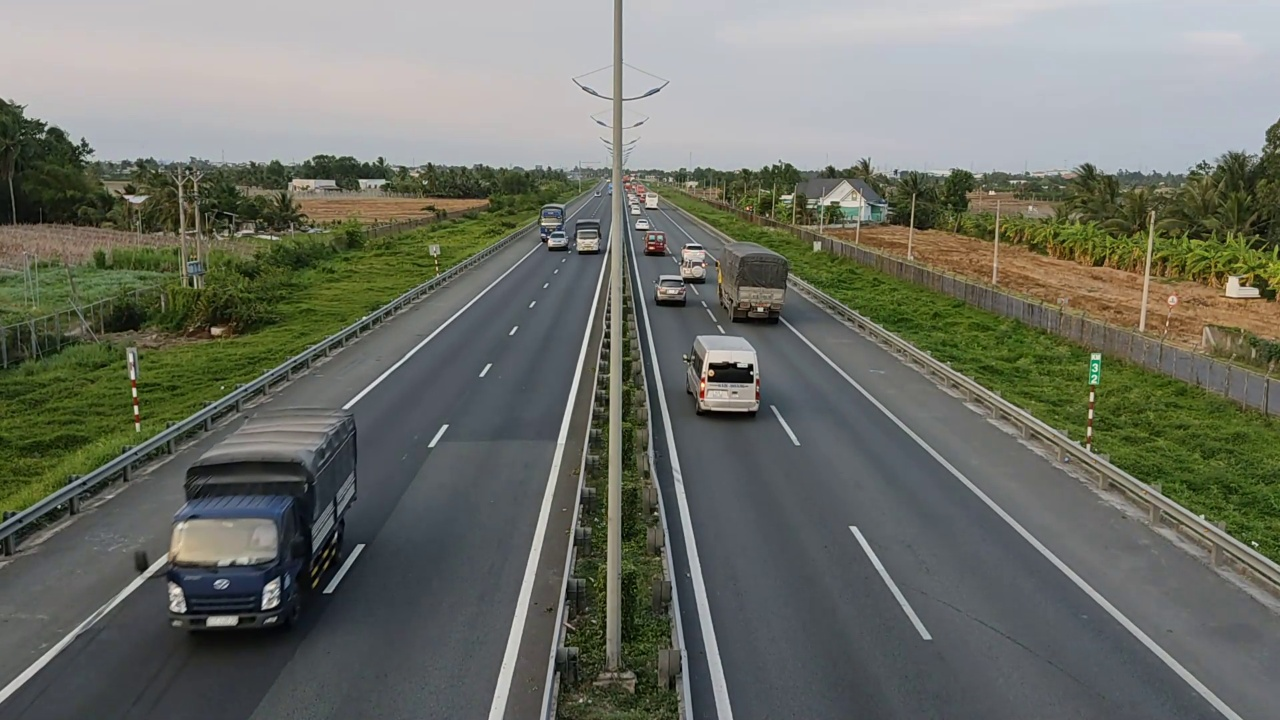car: (681, 330, 762, 418), (654, 275, 687, 305), (643, 230, 669, 255)
truck: (163, 407, 361, 635), (717, 241, 789, 323), (574, 220, 602, 253)
